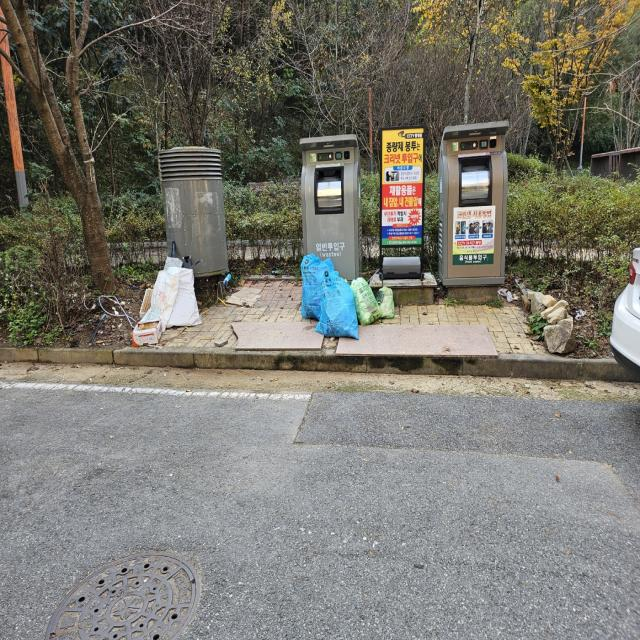CleanNet: (438, 122, 509, 288), (299, 134, 362, 276)
General Waste: (319, 272, 357, 339), (300, 255, 324, 316), (351, 277, 382, 324)
PP bag: (155, 266, 200, 326)
